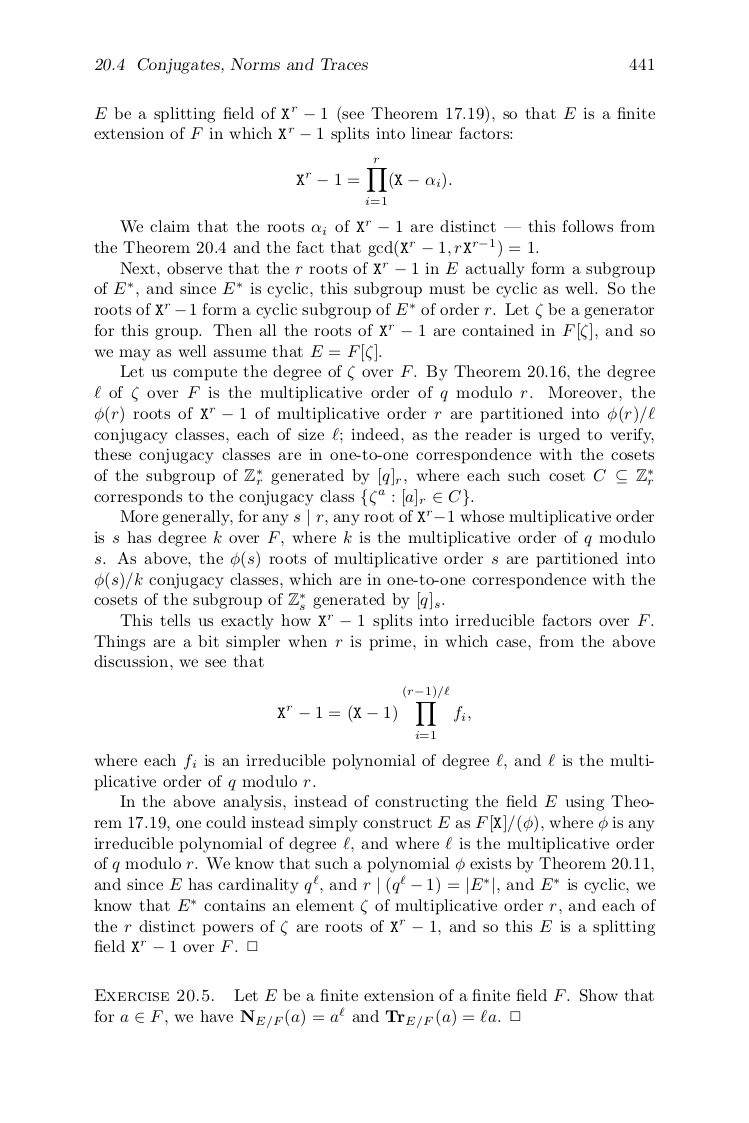formula: (277, 686, 470, 738), (296, 157, 451, 204)
